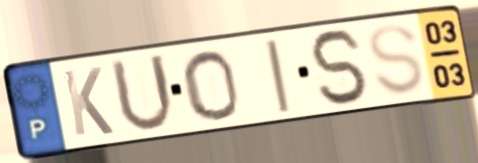I: (260, 36, 294, 117)
K: (59, 64, 117, 139)
O: (178, 47, 243, 123)
S: (306, 26, 374, 109), (366, 21, 428, 98)
U: (106, 51, 178, 136)
